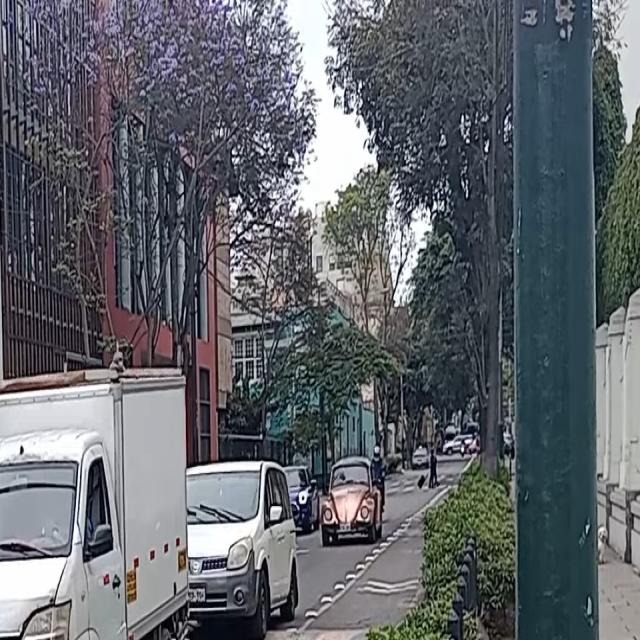car: (183, 466, 301, 618), (287, 461, 318, 531)
truck: (0, 377, 181, 640)
